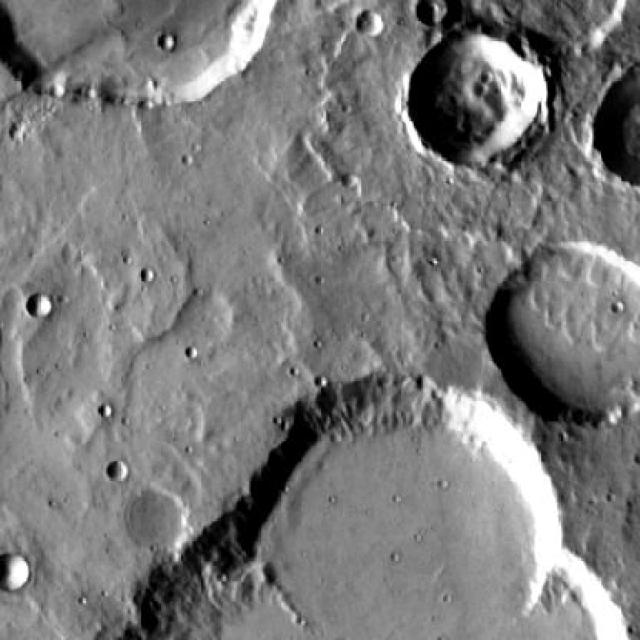crater: (262, 374, 569, 640), (0, 0, 275, 104), (498, 247, 640, 430), (406, 34, 540, 166), (122, 487, 186, 550), (0, 551, 31, 592), (416, 0, 449, 29), (357, 10, 385, 38), (25, 293, 49, 316), (107, 461, 127, 481), (156, 34, 173, 49)
